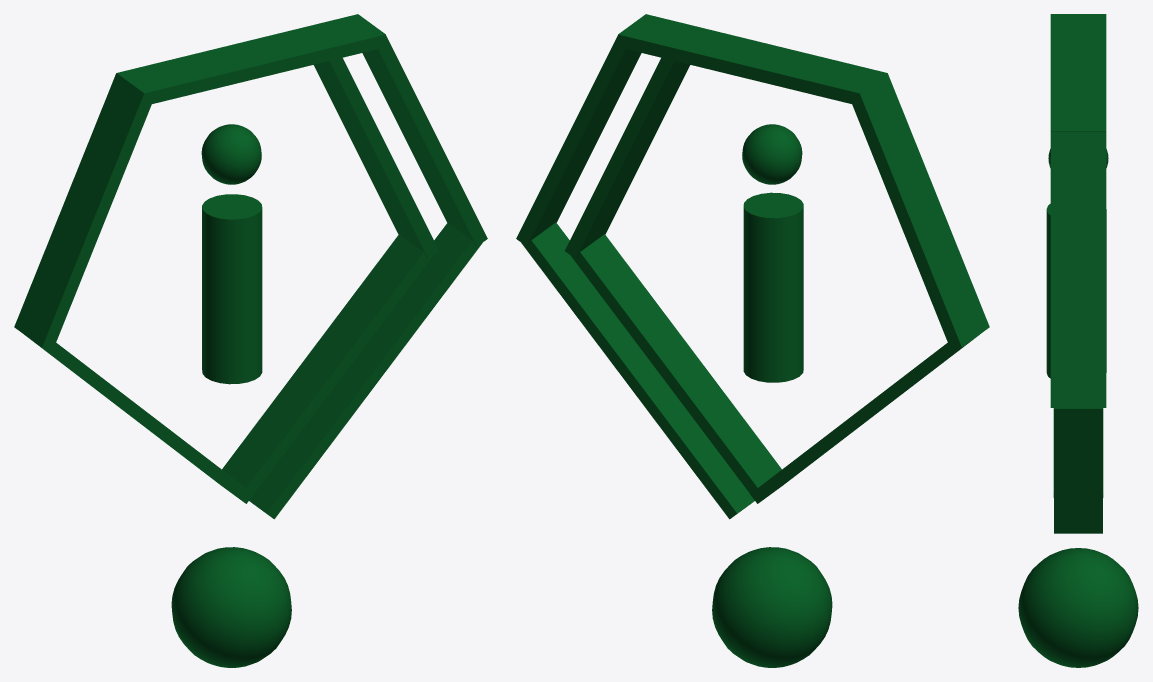
Rendered from info.obj.
The picture shows the model from 3 angles, left to right: view 1: azimuth 30°, elevation 25°; view 2: azimuth 150°, elevation 25°; view 3: azimuth 270°, elevation 25°; orthographic projection.
Visible parts, largest first — view 1: pCube11; view 2: pCube11; view 3: pCube11.
Boxes of the visible parts, left/top/right/bottom form: pCube11: left=14, top=14, right=487, bottom=667; pCube11: left=516, top=14, right=989, bottom=667; pCube11: left=1018, top=14, right=1138, bottom=667.
Bounding box in the file's own units: 8.5 × 11.01 × 2.
